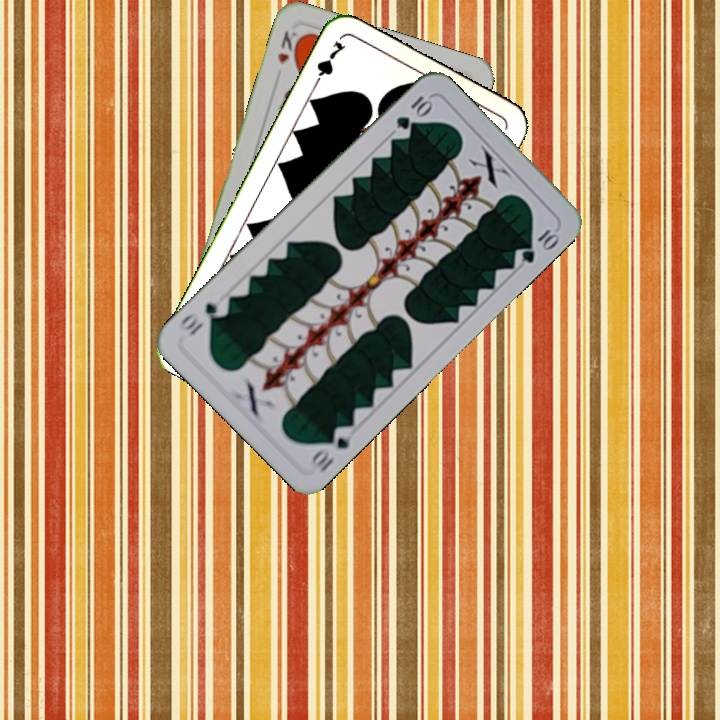G10: (305, 421, 357, 475), (391, 91, 435, 133)
G7: (309, 37, 349, 91)
HK: (273, 26, 295, 66)
